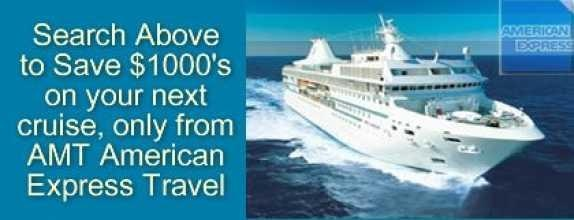youlun: (279, 13, 551, 190)
